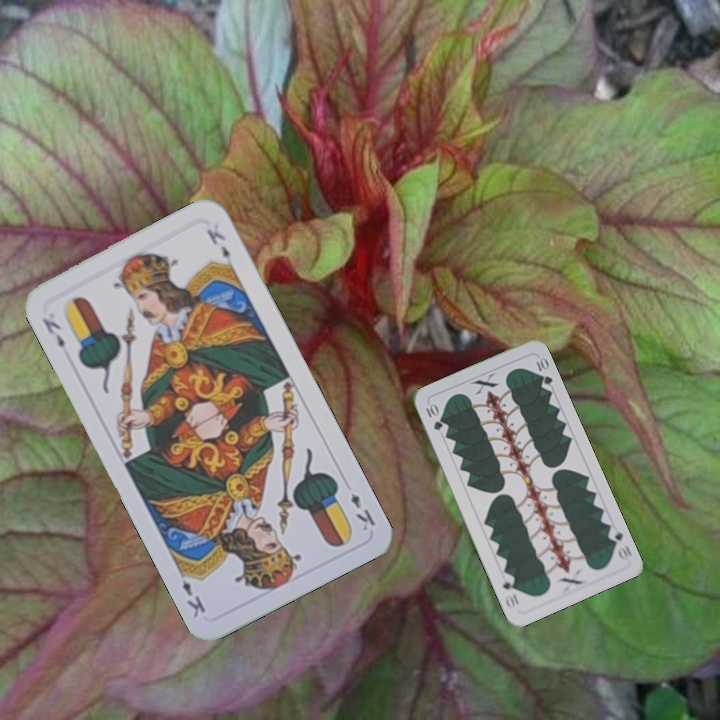EK: (346, 489, 379, 534), (38, 313, 67, 351)
G10: (604, 523, 634, 564), (421, 400, 445, 433)
